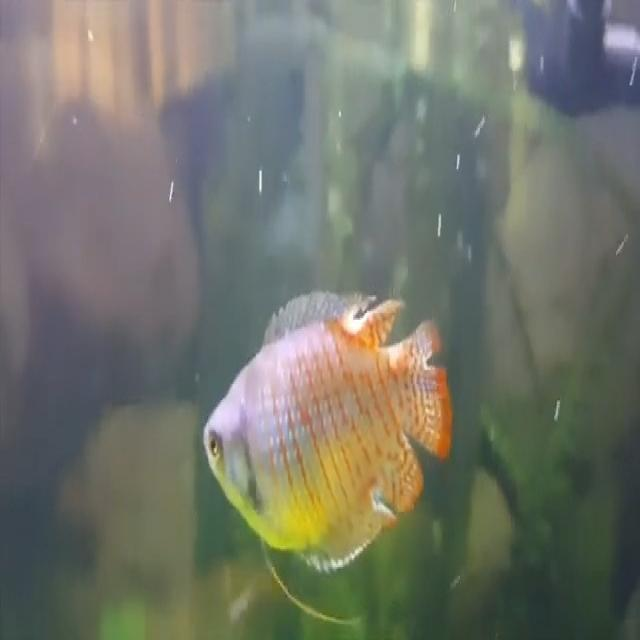fish: (200, 286, 457, 577)
